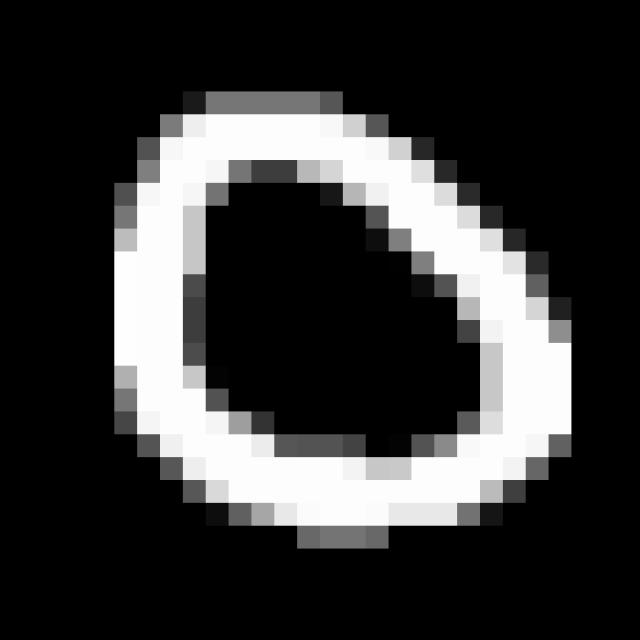zero -0-: (90, 73, 594, 554)
